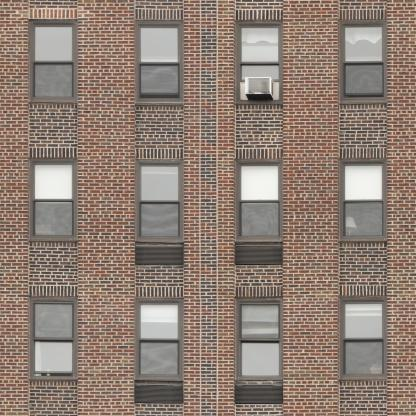Building Outline: (0, 0, 415, 415)
Facade: (0, 0, 416, 416)
Floor: (1, 8, 416, 139), (1, 285, 416, 416), (1, 147, 416, 277)
Floor Slab: (0, 277, 415, 285), (0, 139, 415, 147), (0, 1, 415, 8)
Sill: (338, 286, 386, 297), (29, 285, 77, 296), (135, 286, 183, 297), (235, 286, 283, 297), (338, 10, 386, 21), (29, 9, 77, 20), (135, 10, 183, 21), (235, 10, 283, 21), (338, 148, 386, 159), (29, 147, 77, 158), (135, 148, 183, 159), (235, 148, 283, 159)
Window: (338, 297, 386, 380), (135, 297, 183, 380), (235, 297, 283, 380), (338, 159, 386, 242), (29, 158, 77, 241), (135, 159, 183, 242), (235, 159, 283, 242), (29, 296, 77, 378), (338, 21, 386, 103), (29, 20, 77, 102), (135, 21, 183, 103), (235, 21, 283, 103)
